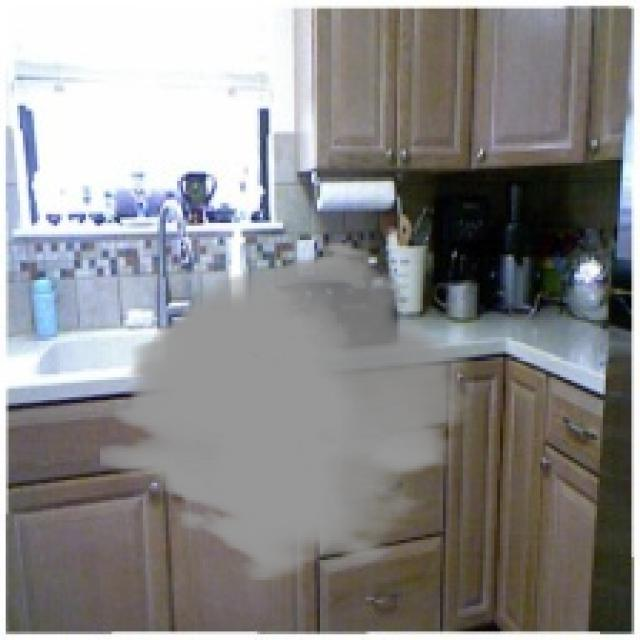Smoke: (100, 240, 474, 583)
